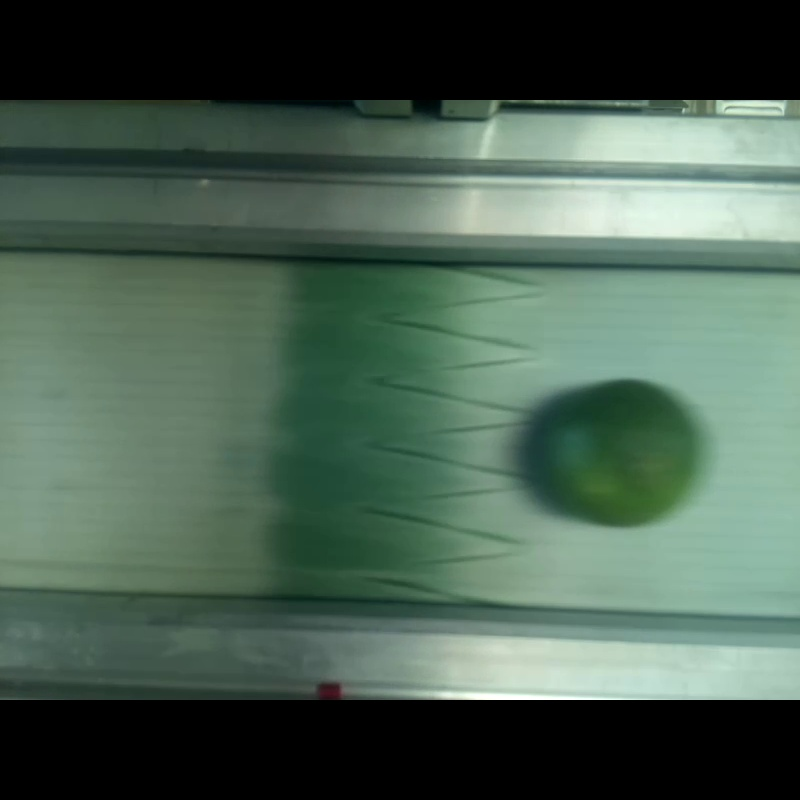lime: (536, 381, 699, 529)
